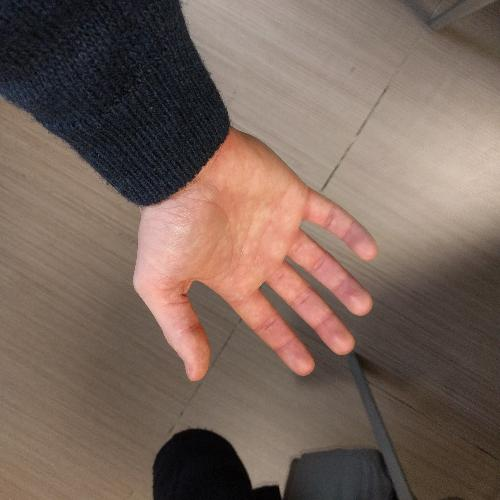paper: (127, 123, 388, 388)
